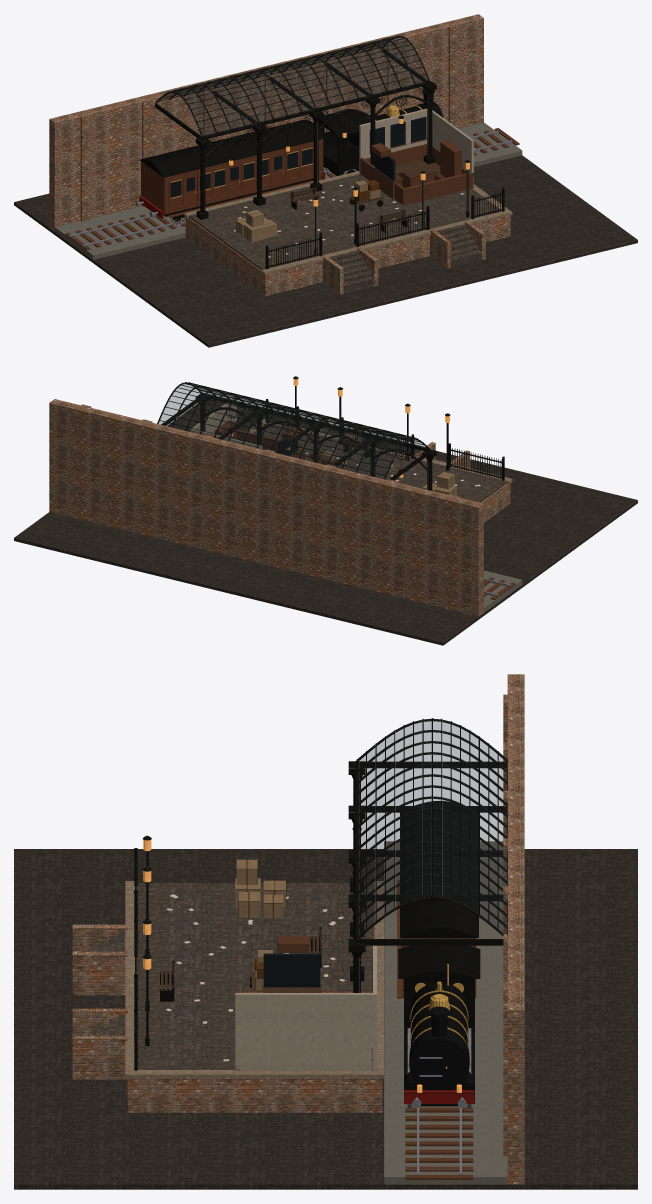
The model's file is train_station.glb.
3 views of the same model, one above another, from view 1: azimuth 30°, elevation 25°; view 2: azimuth 150°, elevation 25°; view 3: azimuth 270°, elevation 25° (orthographic). The views are drawn at different scales.
Visible parts, largest first — view 1: Structure, Ironwork, Props, Vault glass; view 2: Structure, Ironwork, Vault glass, Props; view 3: Structure, Ironwork, Props, Vault glass.
Boxes of the visible parts, left/top/right/bottom form: Structure: left=14, top=14, right=637, bottom=347; Ironwork: left=65, top=35, right=519, bottom=269; Props: left=139, top=89, right=461, bottom=242; Vault glass: left=159, top=36, right=428, bottom=135; Structure: left=14, top=397, right=637, bottom=645; Ironwork: left=157, top=376, right=515, bottom=599; Vault glass: left=158, top=383, right=425, bottom=478; Props: left=214, top=420, right=456, bottom=495; Structure: left=14, top=674, right=637, bottom=1189; Ironwork: left=134, top=718, right=507, bottom=1179; Props: left=161, top=801, right=480, bottom=1106; Vault glass: left=358, top=719, right=506, bottom=935.
Bounding box in the file's own units: 28.25 × 8.38 × 22.
Materials: 22 (22 with a texture image).
